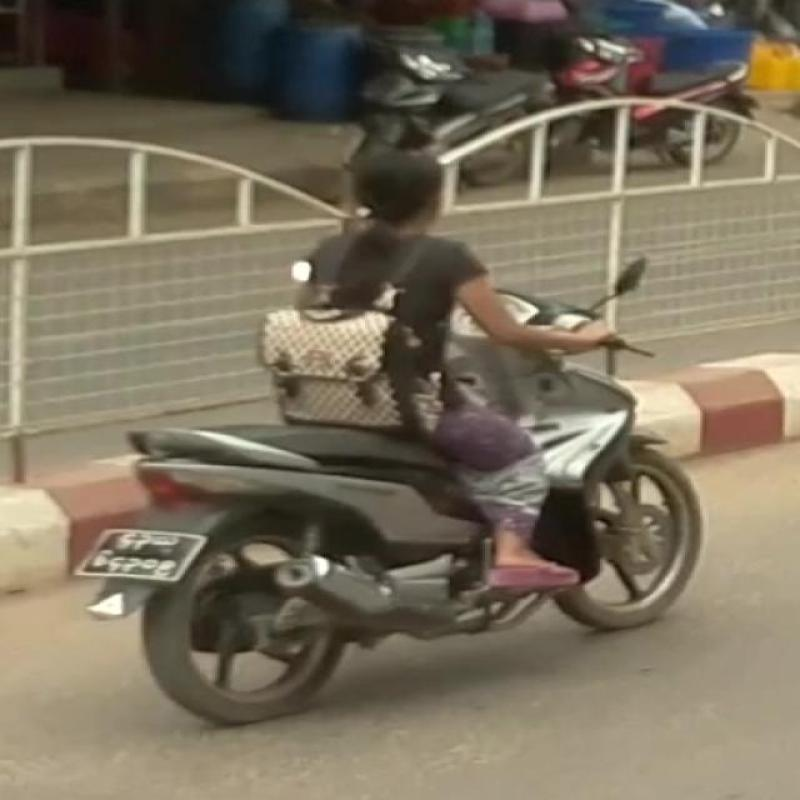nohelmet: (315, 127, 484, 244)
